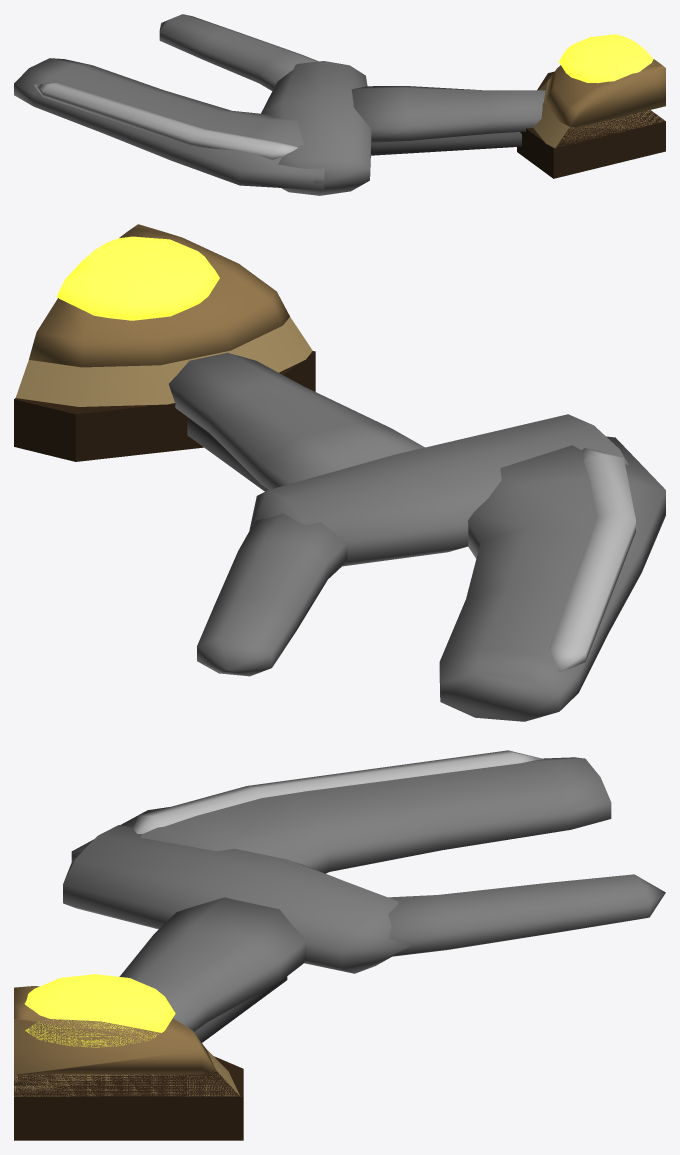
Rendered from newsh-hash-1-f4.glb.
The picture shows the model from 3 angles, top to bottom: view 1: azimuth 30°, elevation 25°; view 2: azimuth 150°, elevation 25°; view 3: azimuth 270°, elevation 25°; orthographic projection. The views are drawn at different scales.
Parts seen in each view (by area): view 1: newsh-hash-1-f4; view 2: newsh-hash-1-f4; view 3: newsh-hash-1-f4.
Part boxes in pixels (x1,y1,x2,y2): newsh-hash-1-f4: (14, 14, 665, 195); newsh-hash-1-f4: (14, 224, 665, 721); newsh-hash-1-f4: (14, 750, 665, 1140).
Bounding box in the file's own units: 1.59 × 0.295 × 1.34.
